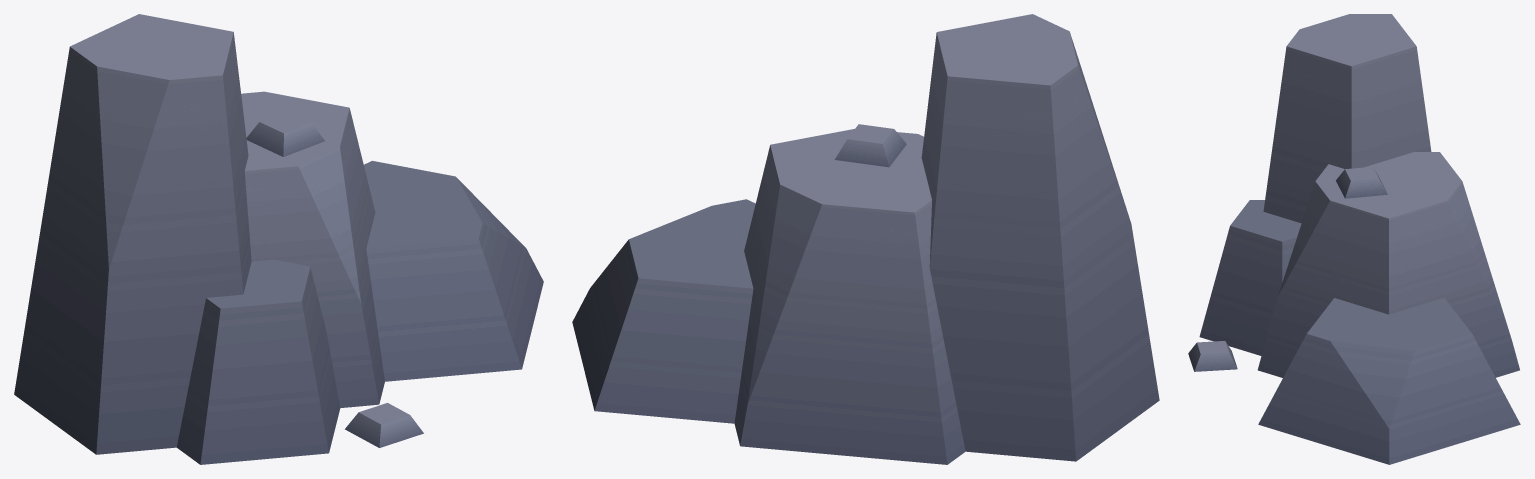
Rendered from ks_rock_c.glb.
3 views of the same model, side by side, from view 1: azimuth 30°, elevation 25°; view 2: azimuth 150°, elevation 25°; view 3: azimuth 270°, elevation 25° (orthographic). The views are drawn at different scales.
Parts seen in each view (by area): view 1: rock-c; view 2: rock-c; view 3: rock-c.
Boxes of the visible parts, bbox=[...] form: rock-c: bbox=[14, 14, 543, 464]; rock-c: bbox=[572, 14, 1159, 464]; rock-c: bbox=[1188, 14, 1520, 464].
Size of the model in its own units: 2.04 by 1.33 by 1.47.
Materials: 1 (1 with a texture image).
